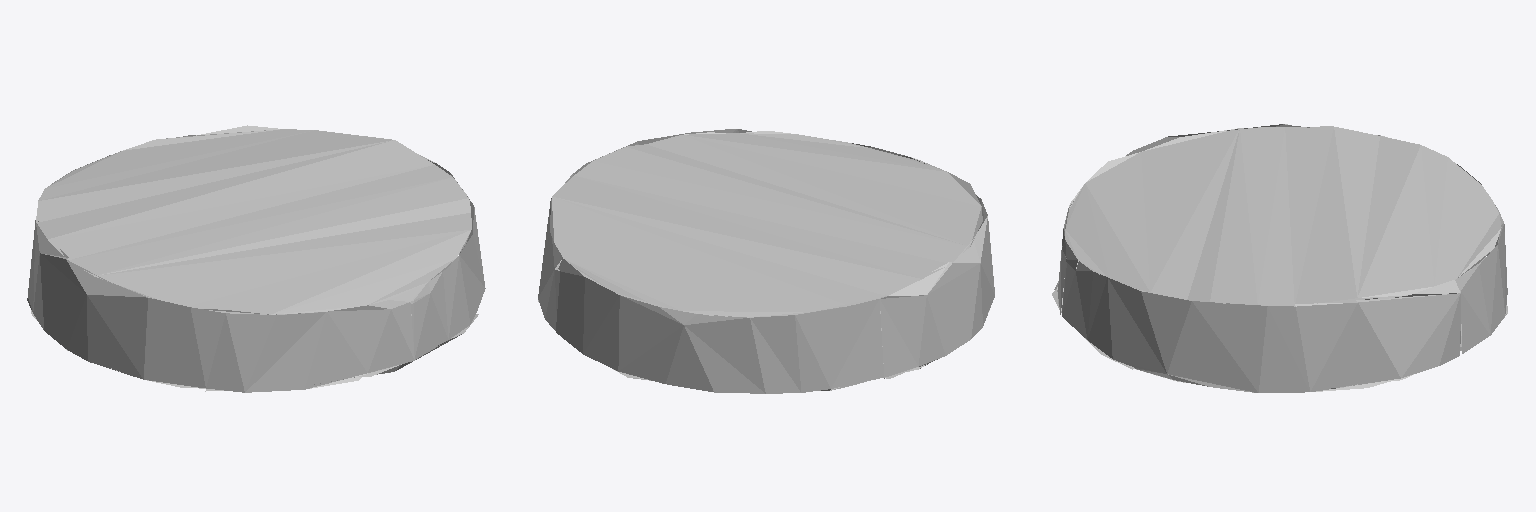
The model's file is StoneSlab.obj.
3 views of the same model, side by side, from view 1: azimuth 30°, elevation 25°; view 2: azimuth 150°, elevation 25°; view 3: azimuth 270°, elevation 25° (orthographic).
Visible parts, largest first — view 1: model; view 2: model; view 3: model.
Part boxes in pixels (bbox=[...]): model: bbox=[27, 125, 485, 392]; model: bbox=[538, 129, 994, 393]; model: bbox=[1052, 124, 1507, 392].
Bounding box in the file's own units: 1.89 × 0.4105 × 1.91.